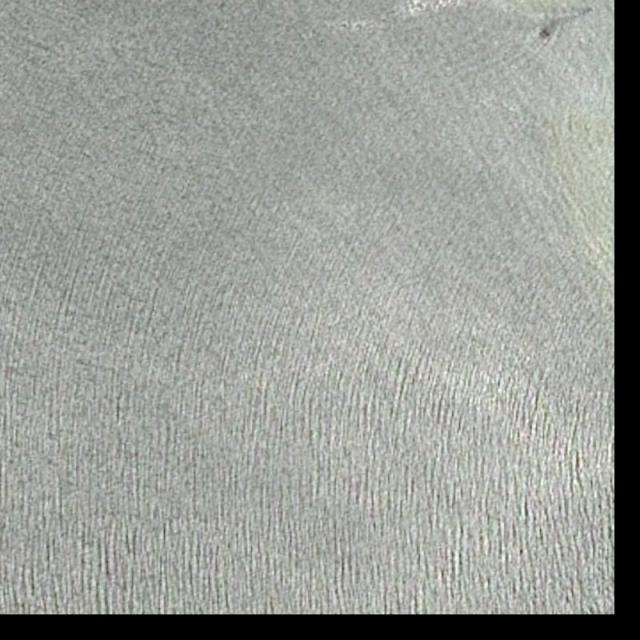ship: (584, 5, 594, 14)
